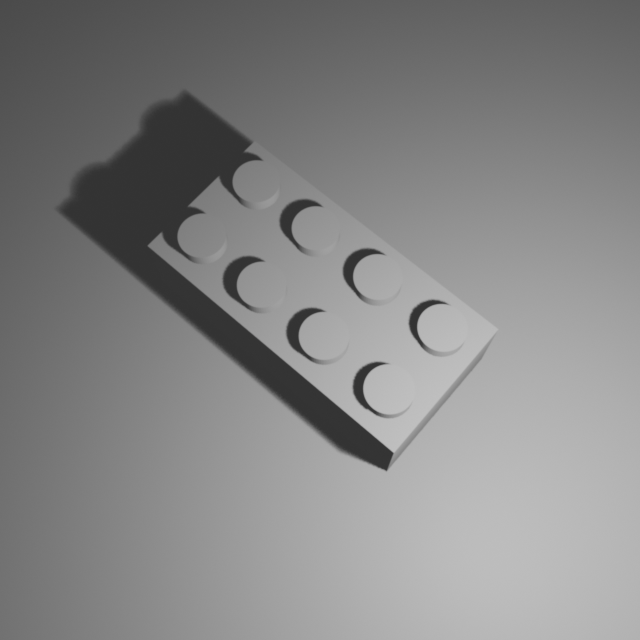lego_2x4: (145, 133, 502, 472)
